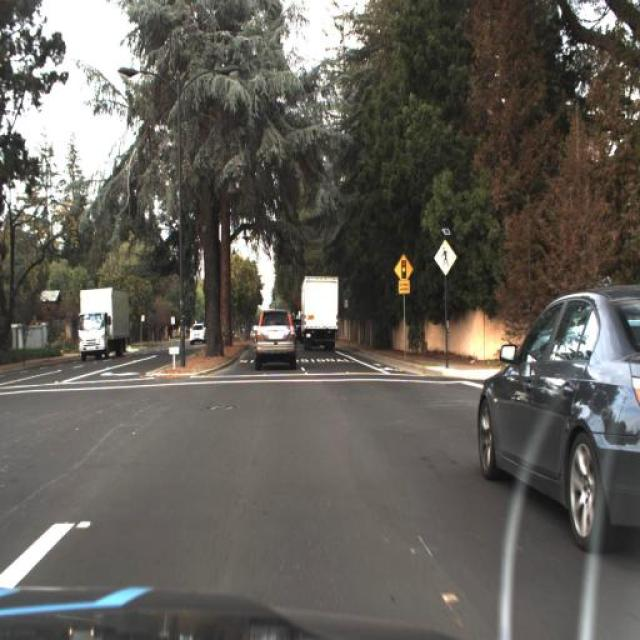car: (472, 273, 637, 582), (70, 282, 134, 368), (248, 298, 303, 387), (296, 274, 348, 358), (186, 318, 209, 350)
